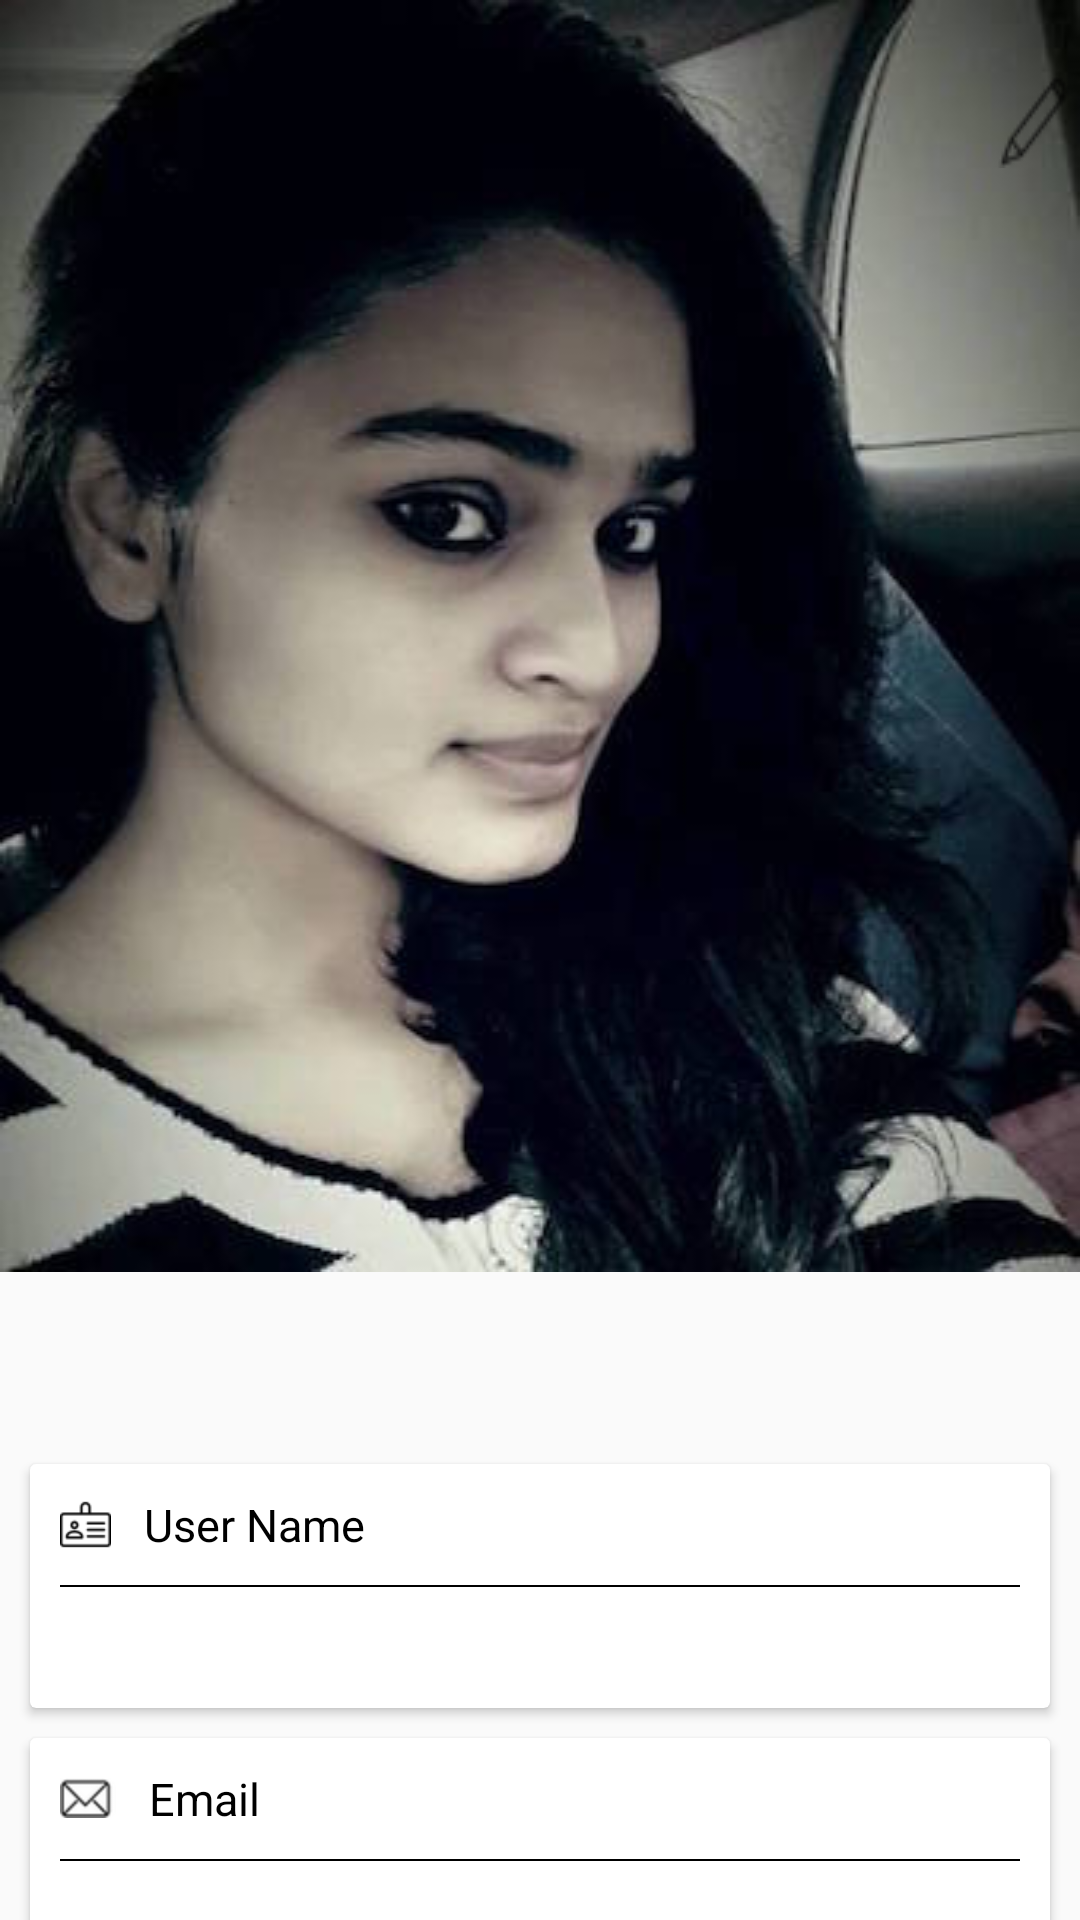

Named icons in this screenshot (1080 x 1920) and their bounding boxes, (left=x1, top=y1, right=x2, bottom=y2):
edit: (left=975, top=63, right=1080, bottom=168)
